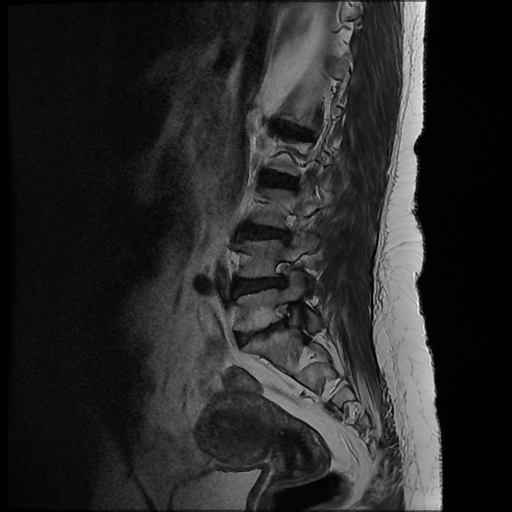RFS1: (268, 296, 301, 340), (266, 250, 299, 294)
